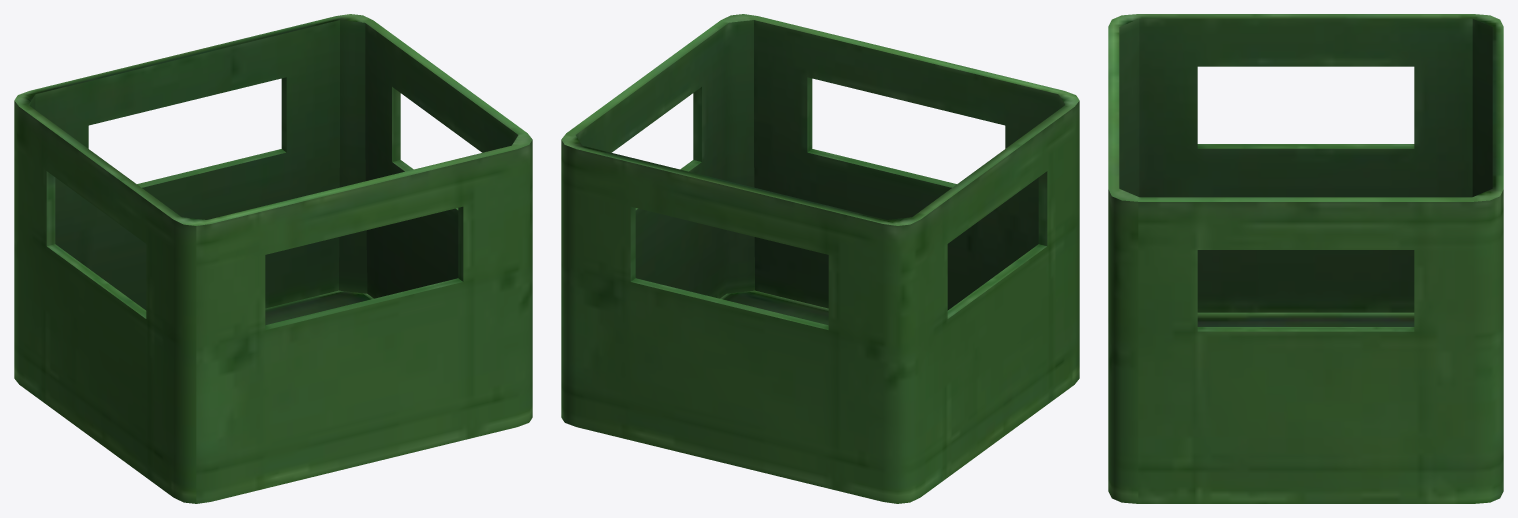
3 views of the same model, side by side, from view 1: azimuth 30°, elevation 25°; view 2: azimuth 150°, elevation 25°; view 3: azimuth 270°, elevation 25° (orthographic). The views are drawn at different scales.
Visible parts, largest first — view 1: body0_model0_lod0_mesh0; view 2: body0_model0_lod0_mesh0; view 3: body0_model0_lod0_mesh0.
Part boxes in pixels (box(x1,y1,x2,y2)): body0_model0_lod0_mesh0: box(14, 14, 532, 503); body0_model0_lod0_mesh0: box(561, 14, 1079, 503); body0_model0_lod0_mesh0: box(1108, 14, 1503, 503).
Size of the model in its own units: 36 by 27 by 32.
1 material, 1 textured.
